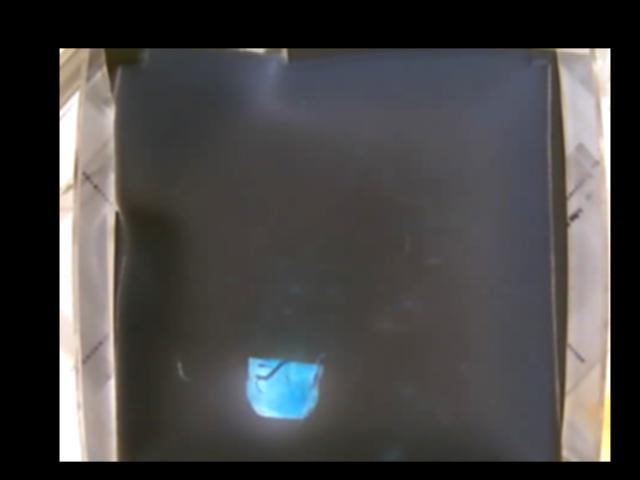Carrot: (247, 356, 324, 422)
